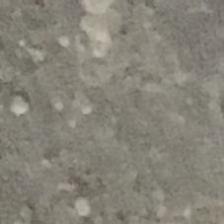Non_Crack: (12, 7, 224, 224)
